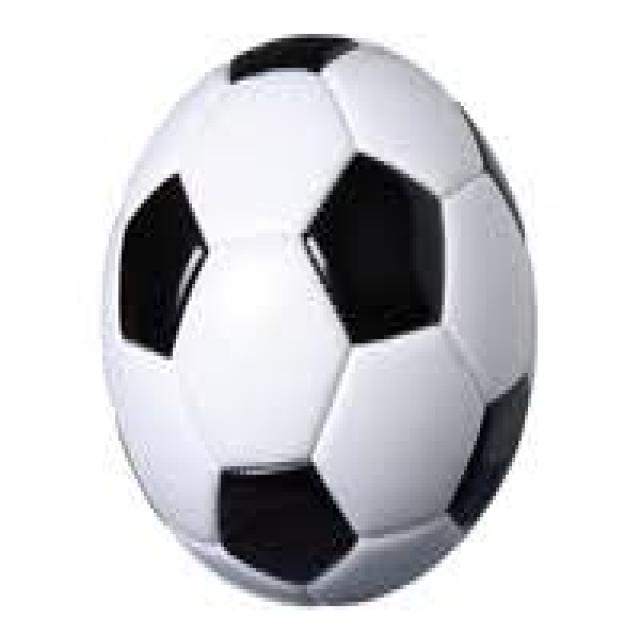ball: (101, 31, 539, 606)
